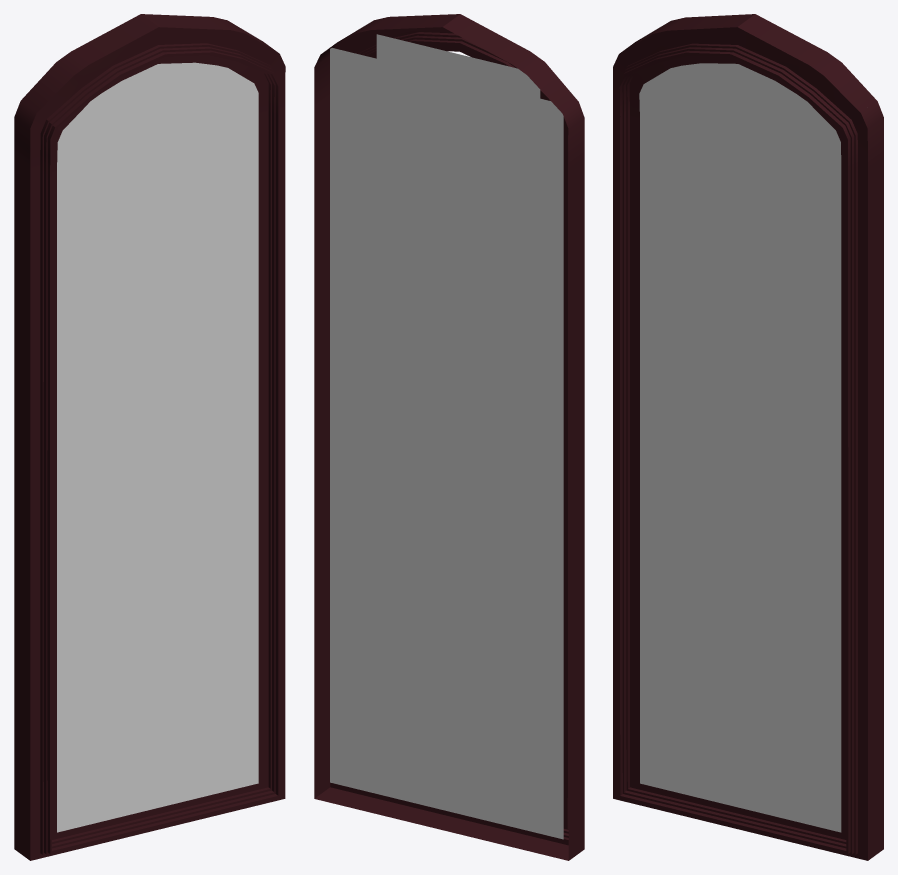
The model's file is Single_Glass_1_.fbx.
3 views of the same model, side by side, from view 1: azimuth 30°, elevation 25°; view 2: azimuth 150°, elevation 25°; view 3: azimuth 330°, elevation 25° (orthographic).
Parts seen in each view (by area): view 1: Plane.020, Paint 1.014; view 2: Plane.020, Paint 1.014; view 3: Plane.020, Paint 1.014.
Boxes of the visible parts, box(x1,y1,x2,y2) form: Plane.020: box(57, 62, 258, 832); Paint 1.014: box(14, 14, 285, 860); Plane.020: box(330, 34, 563, 839); Paint 1.014: box(314, 14, 584, 860); Plane.020: box(639, 63, 841, 832); Paint 1.014: box(613, 14, 883, 860).
Size of the model in its own units: 123 by 372 by 20.68.
